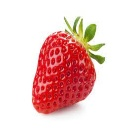strawberry: (29, 20, 100, 114)
